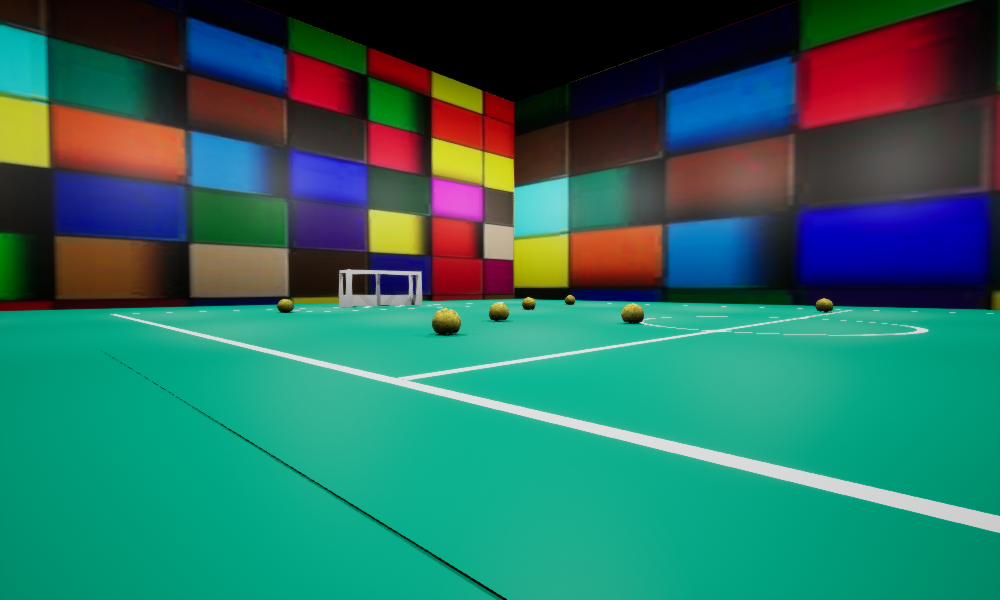b: (432, 308, 460, 334), (621, 303, 643, 323), (489, 302, 508, 320), (815, 298, 832, 311), (277, 299, 293, 312), (522, 297, 535, 309), (565, 295, 574, 304)
g: (339, 269, 421, 306)
